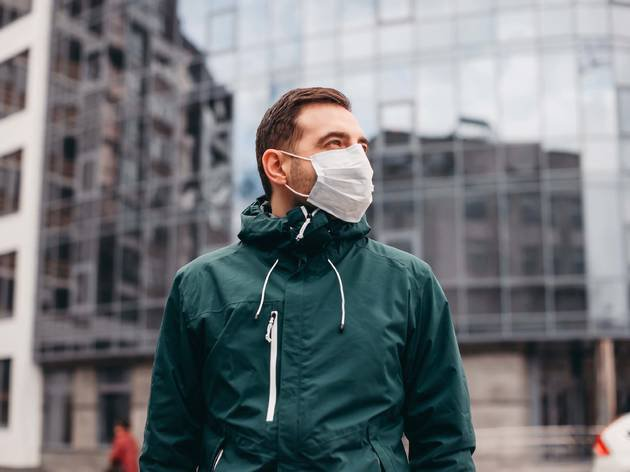mask: (244, 87, 386, 238)
